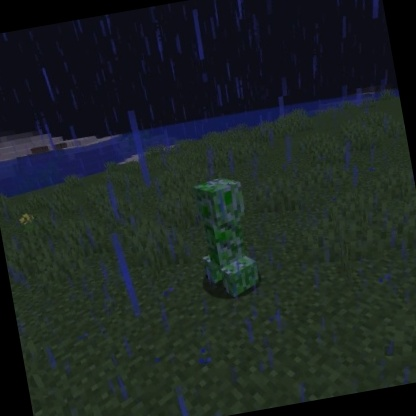creeper: (183, 170, 267, 305)
